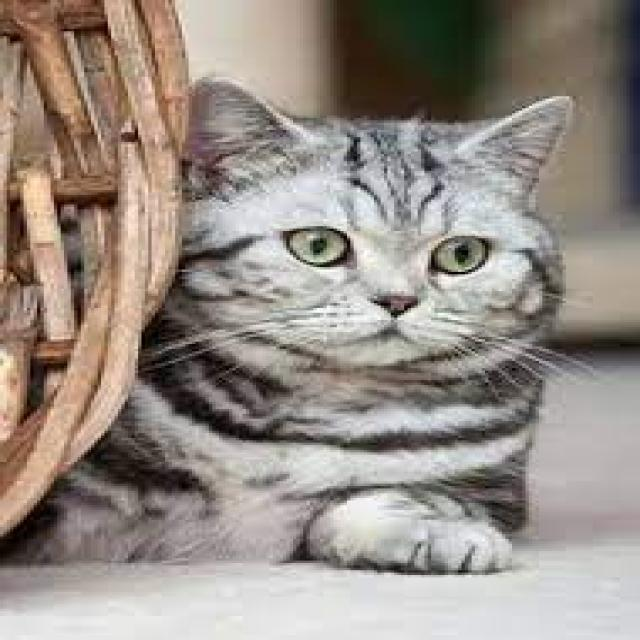Cat: (8, 71, 586, 582)
